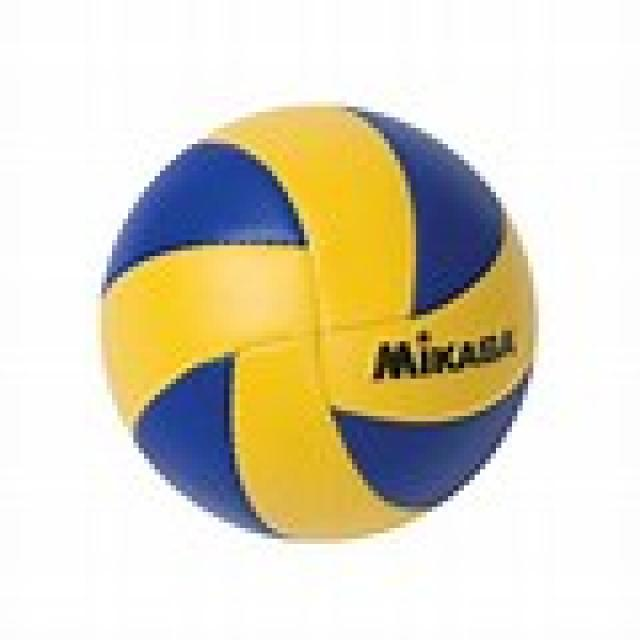volleyball: (100, 105, 538, 542)
